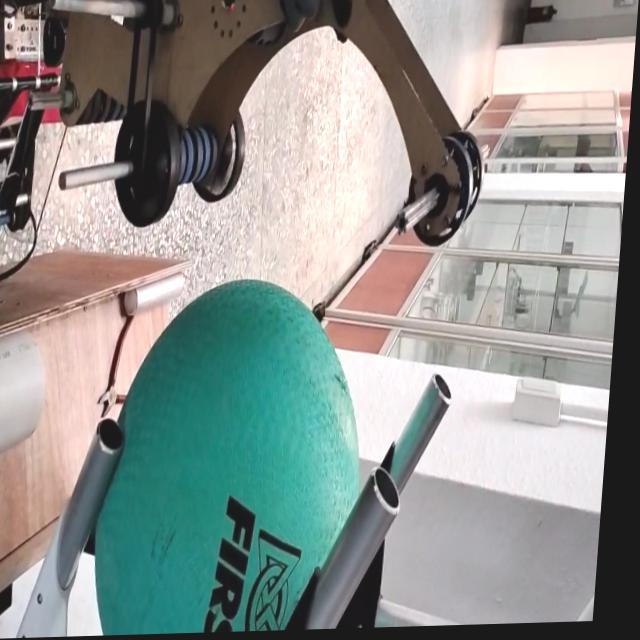ALGAE: (80, 276, 375, 636)
CORAL: (0, 312, 65, 478)
